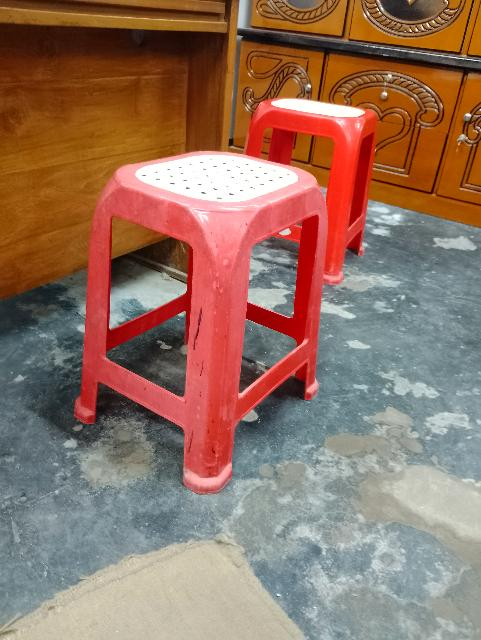hardplastic: (46, 157, 357, 512)
